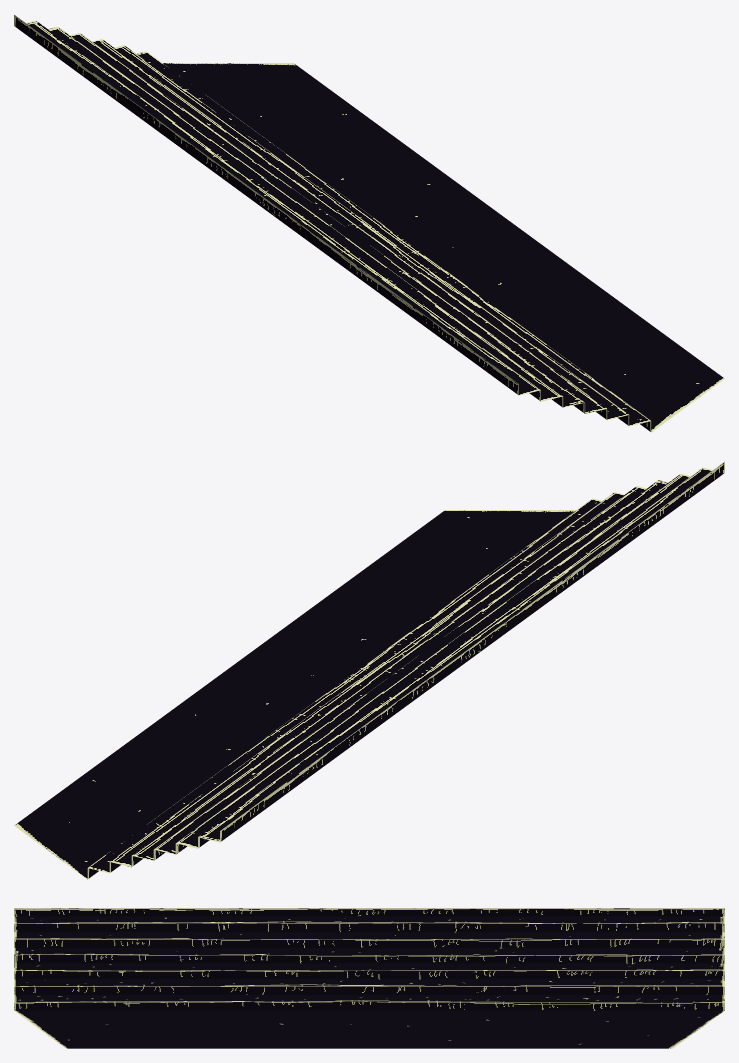
Rendered from stair_0000.fbx.
3 renders of one model, top to bottom at view 1: azimuth 30°, elevation 25°; view 2: azimuth 150°, elevation 25°; view 3: azimuth 270°, elevation 25°, orthographic. The views are drawn at different scales.
Parts seen in each view (by area): view 1: Stair_0000; view 2: Stair_0000; view 3: Stair_0000.
Boxes of the visible parts, x1,y1,x2,y2 form: Stair_0000: (14,14,724,432); Stair_0000: (14,461,724,879); Stair_0000: (14,908,724,1048).
Size of the model in its own units: 2200 by 700 by 7929.
